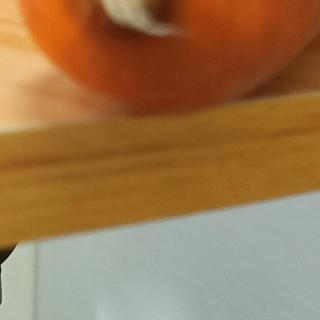carrot: (5, 0, 320, 120)
